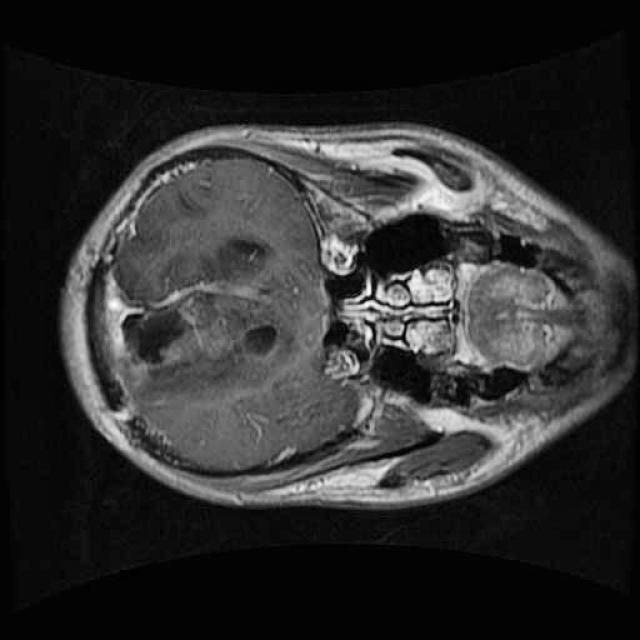Non-Tumor: (106, 234, 309, 422)
